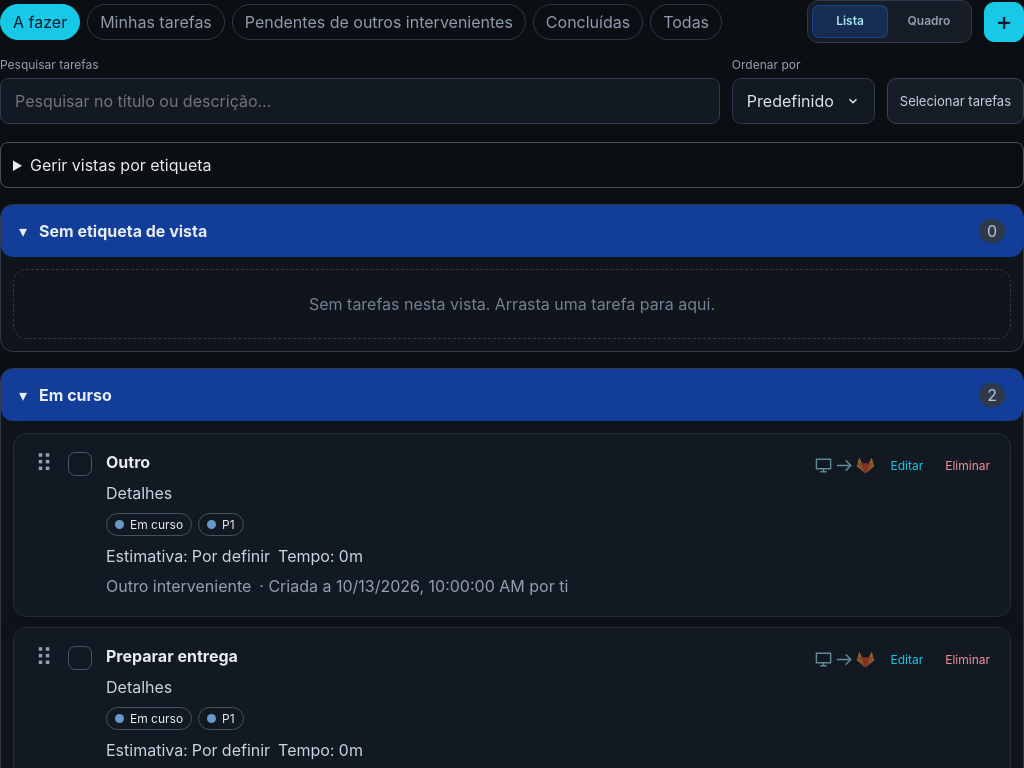
Test case: task interface › preserves owner and completion filters
Click the button "Minhas tarefas": (156, 22) [87,4,225,40]
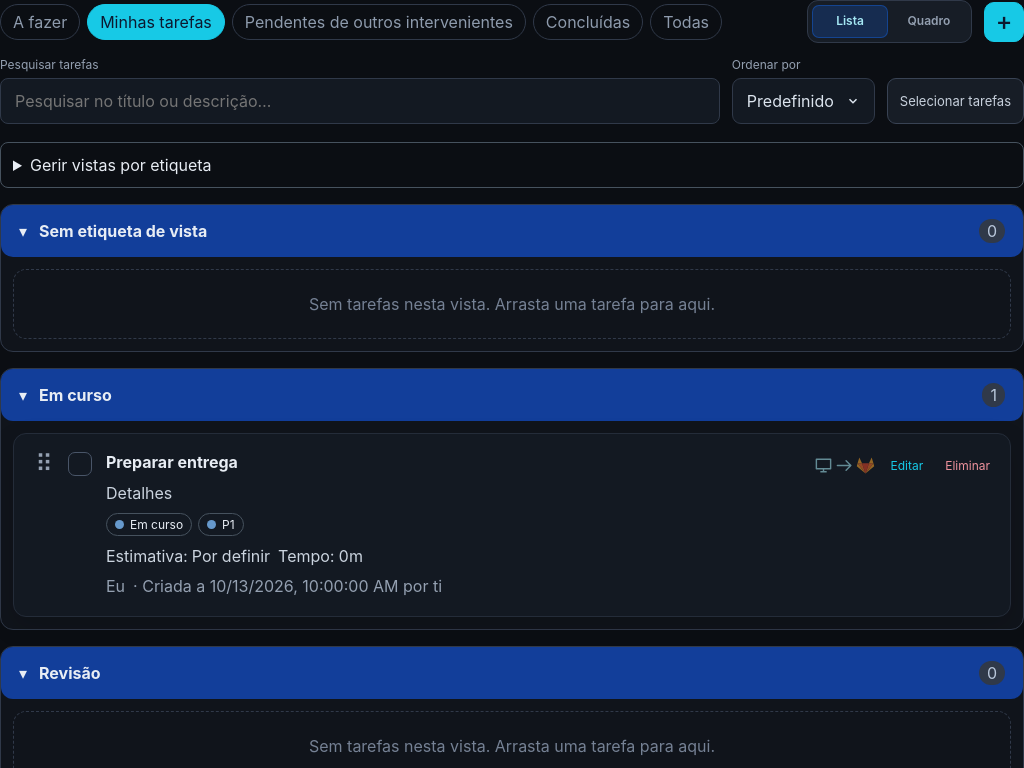
Click the button "Concluídas": (588, 22) [533,4,643,40]
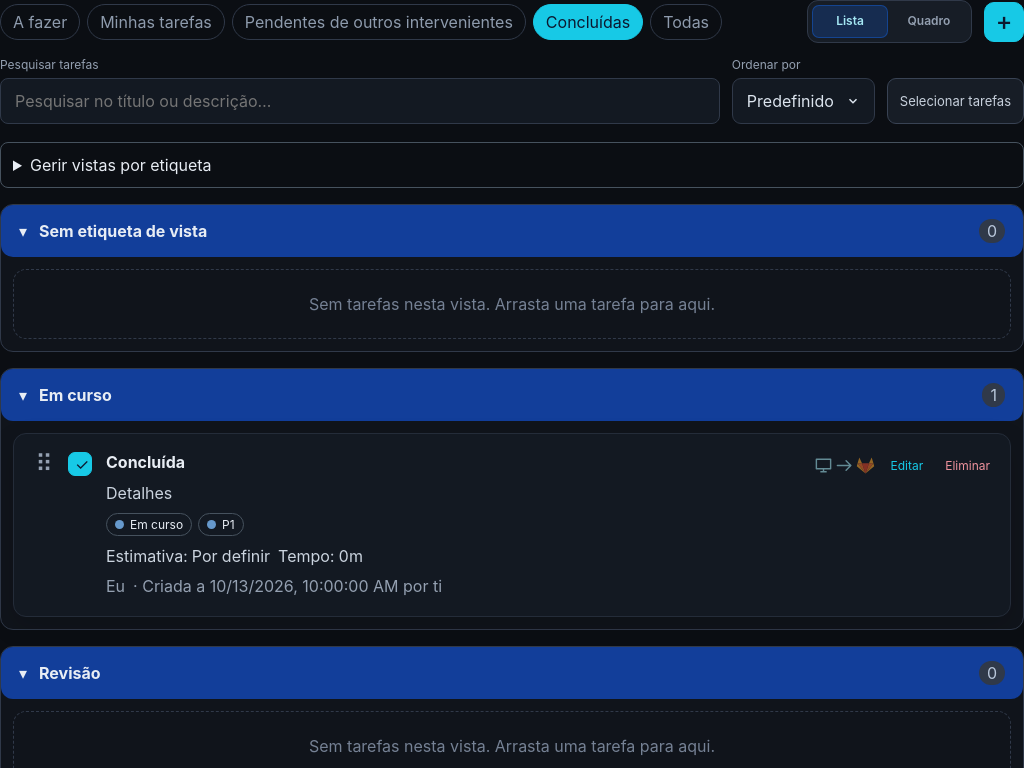
Expected: the element that starts with "Concluída" is shown, [106,452,185,472]
